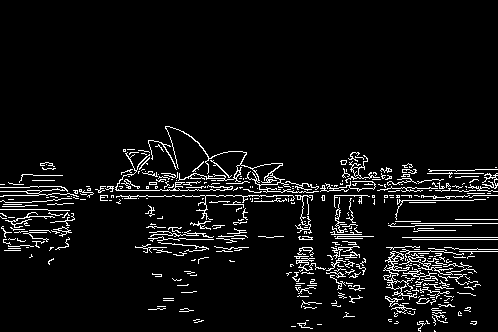opera house: (105, 127, 288, 198)
